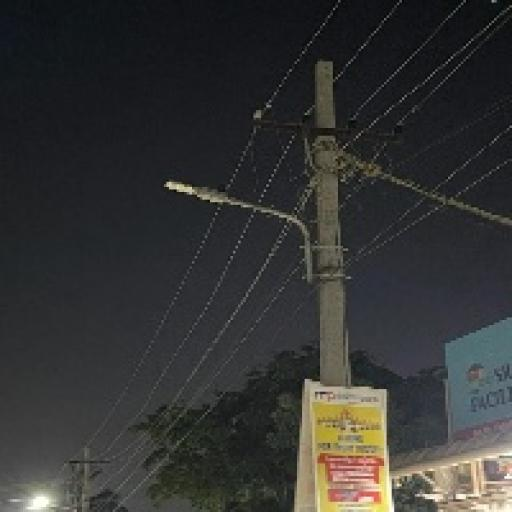Not Working: (151, 170, 260, 226)
Working: (21, 487, 55, 512)
